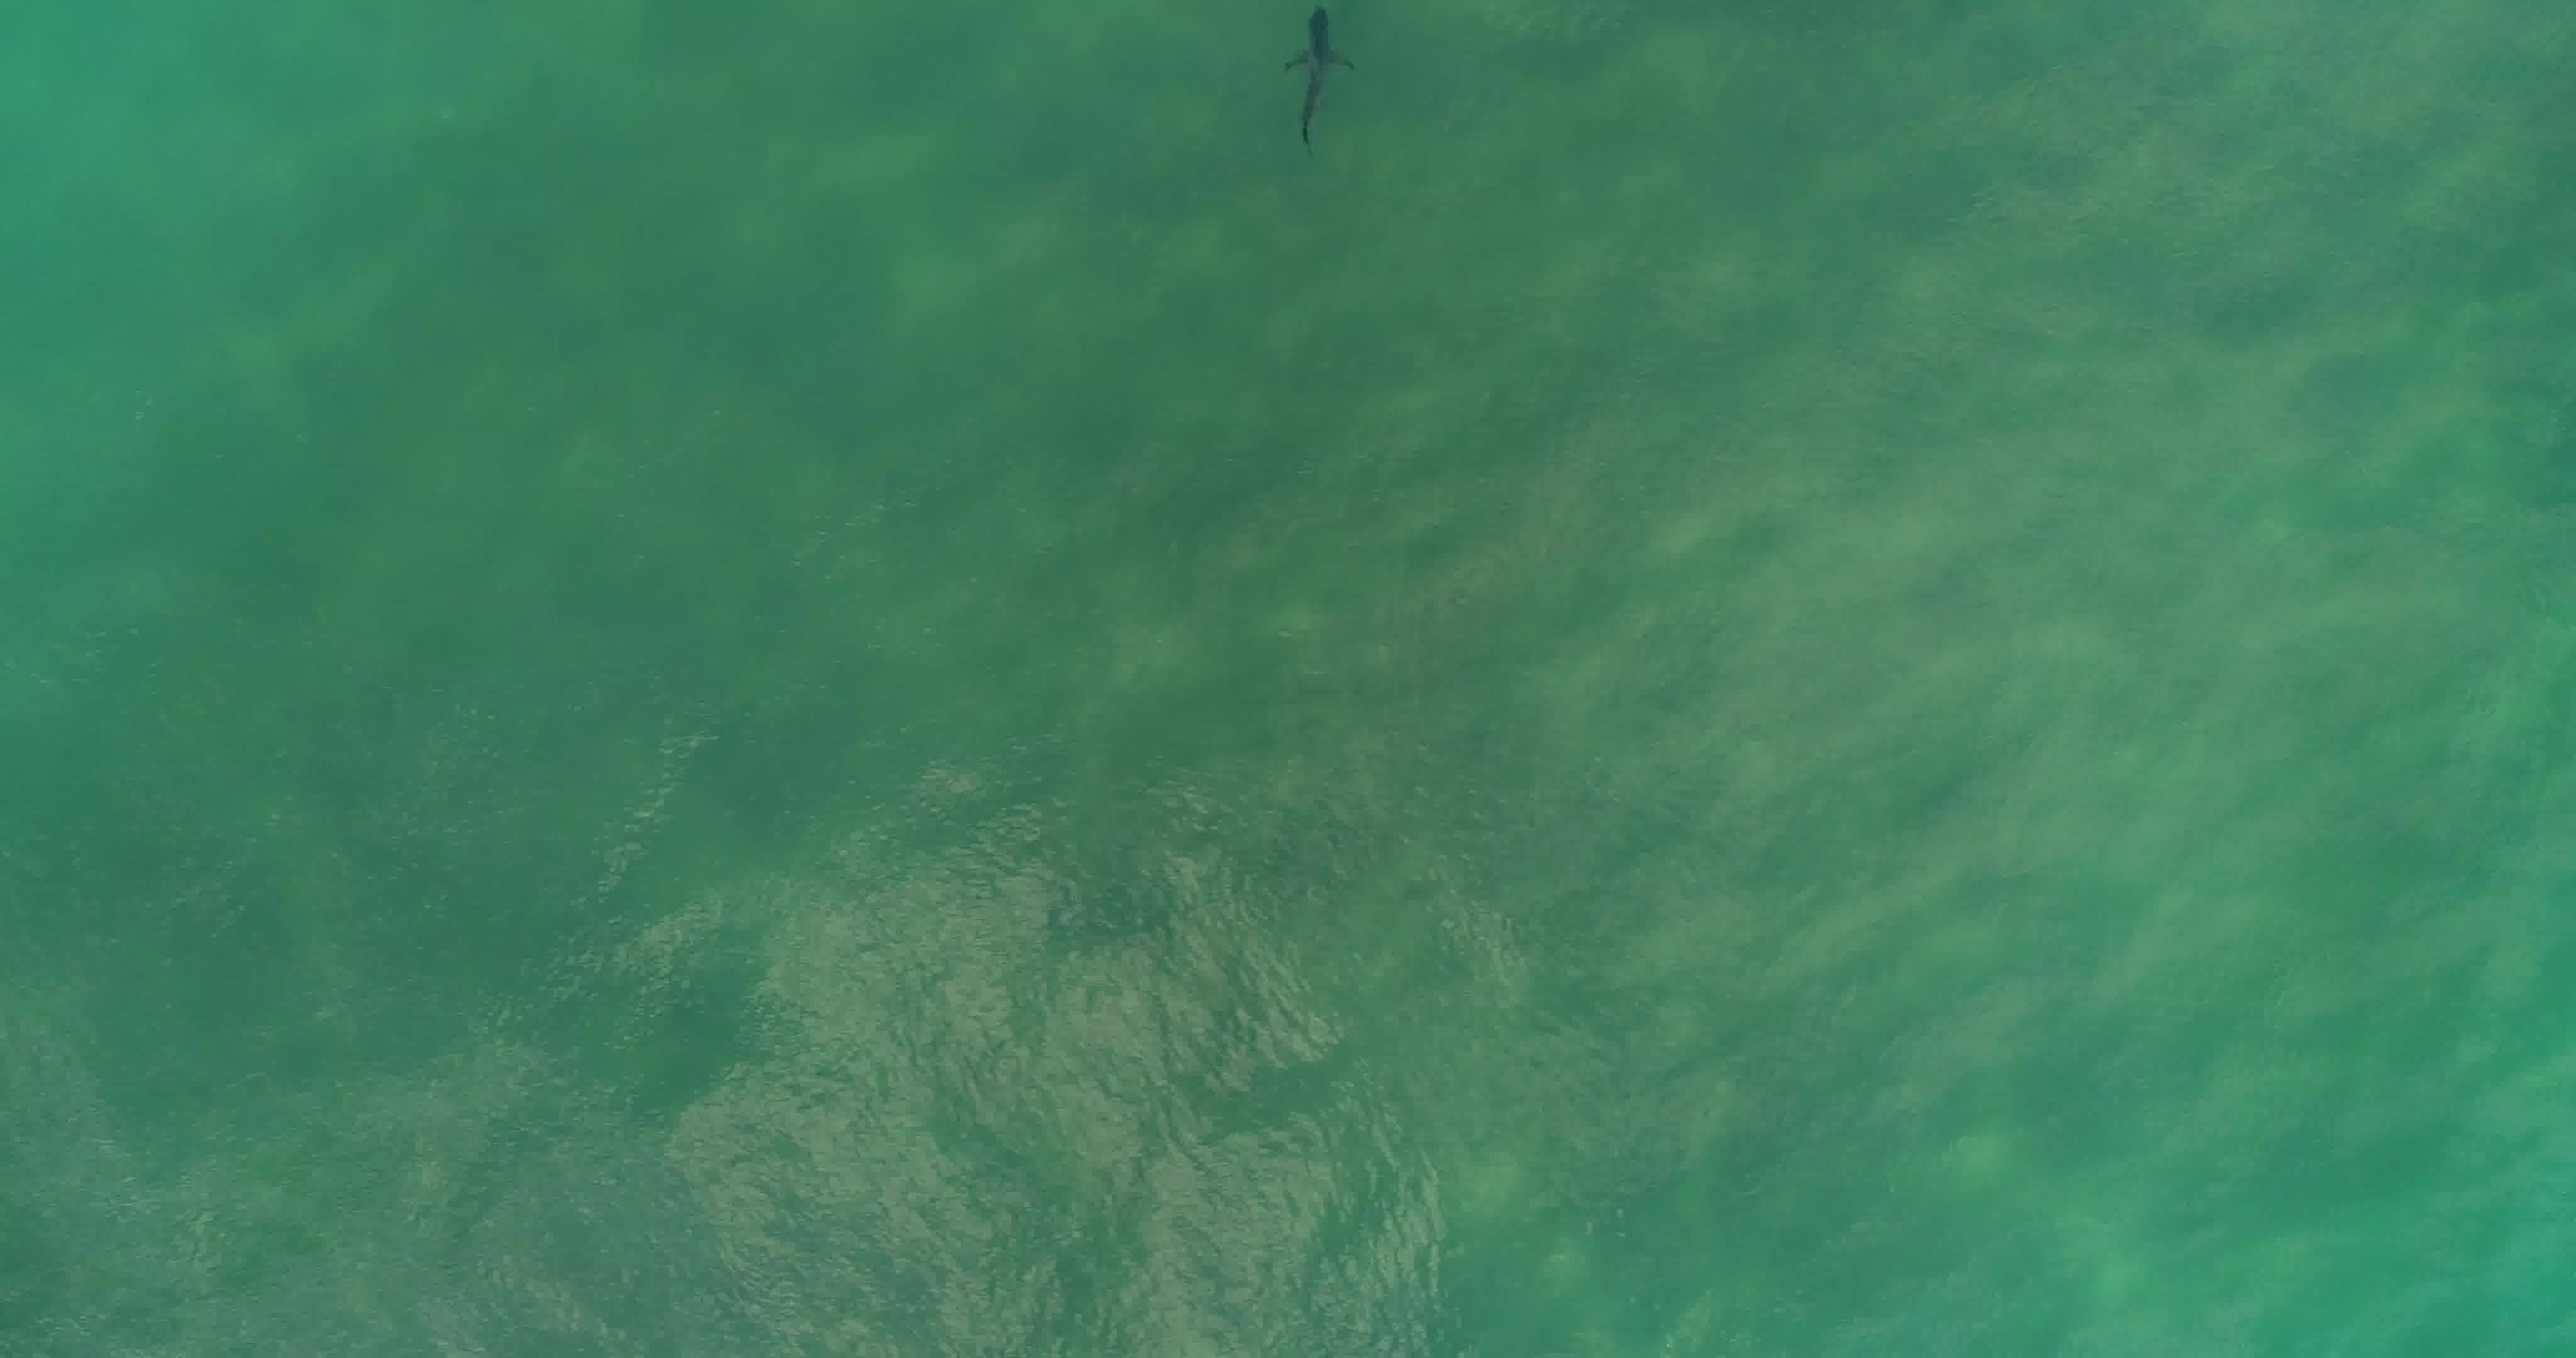shark: (1281, 5, 1361, 160)
